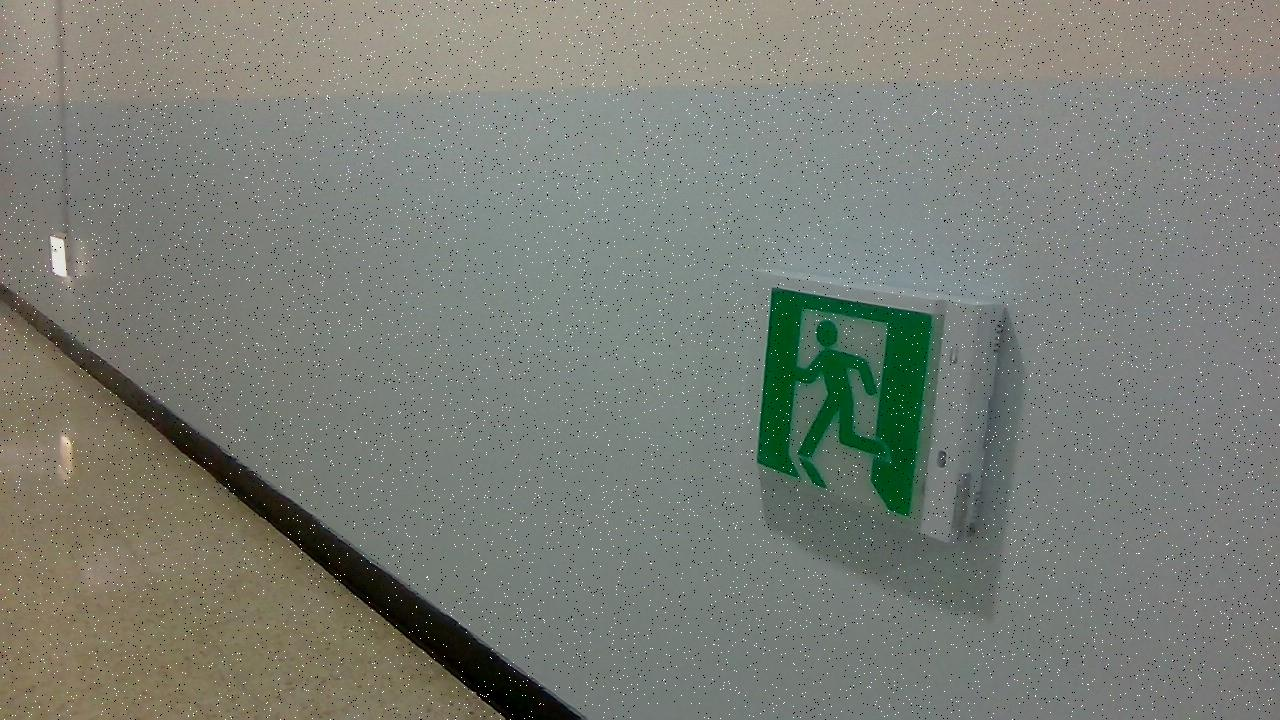emergency_exit: (754, 283, 1007, 544), (755, 285, 940, 520)
